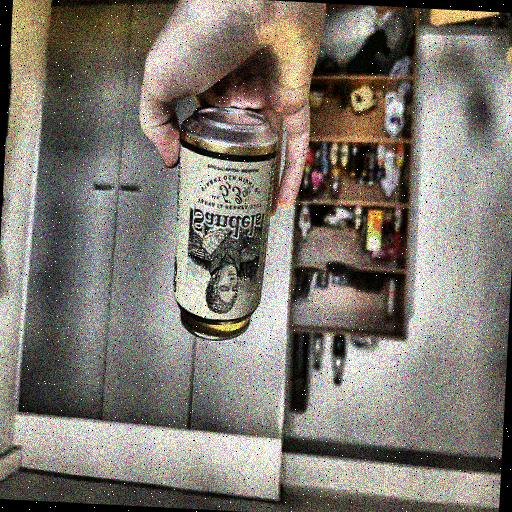sandels: (164, 110, 274, 353)
